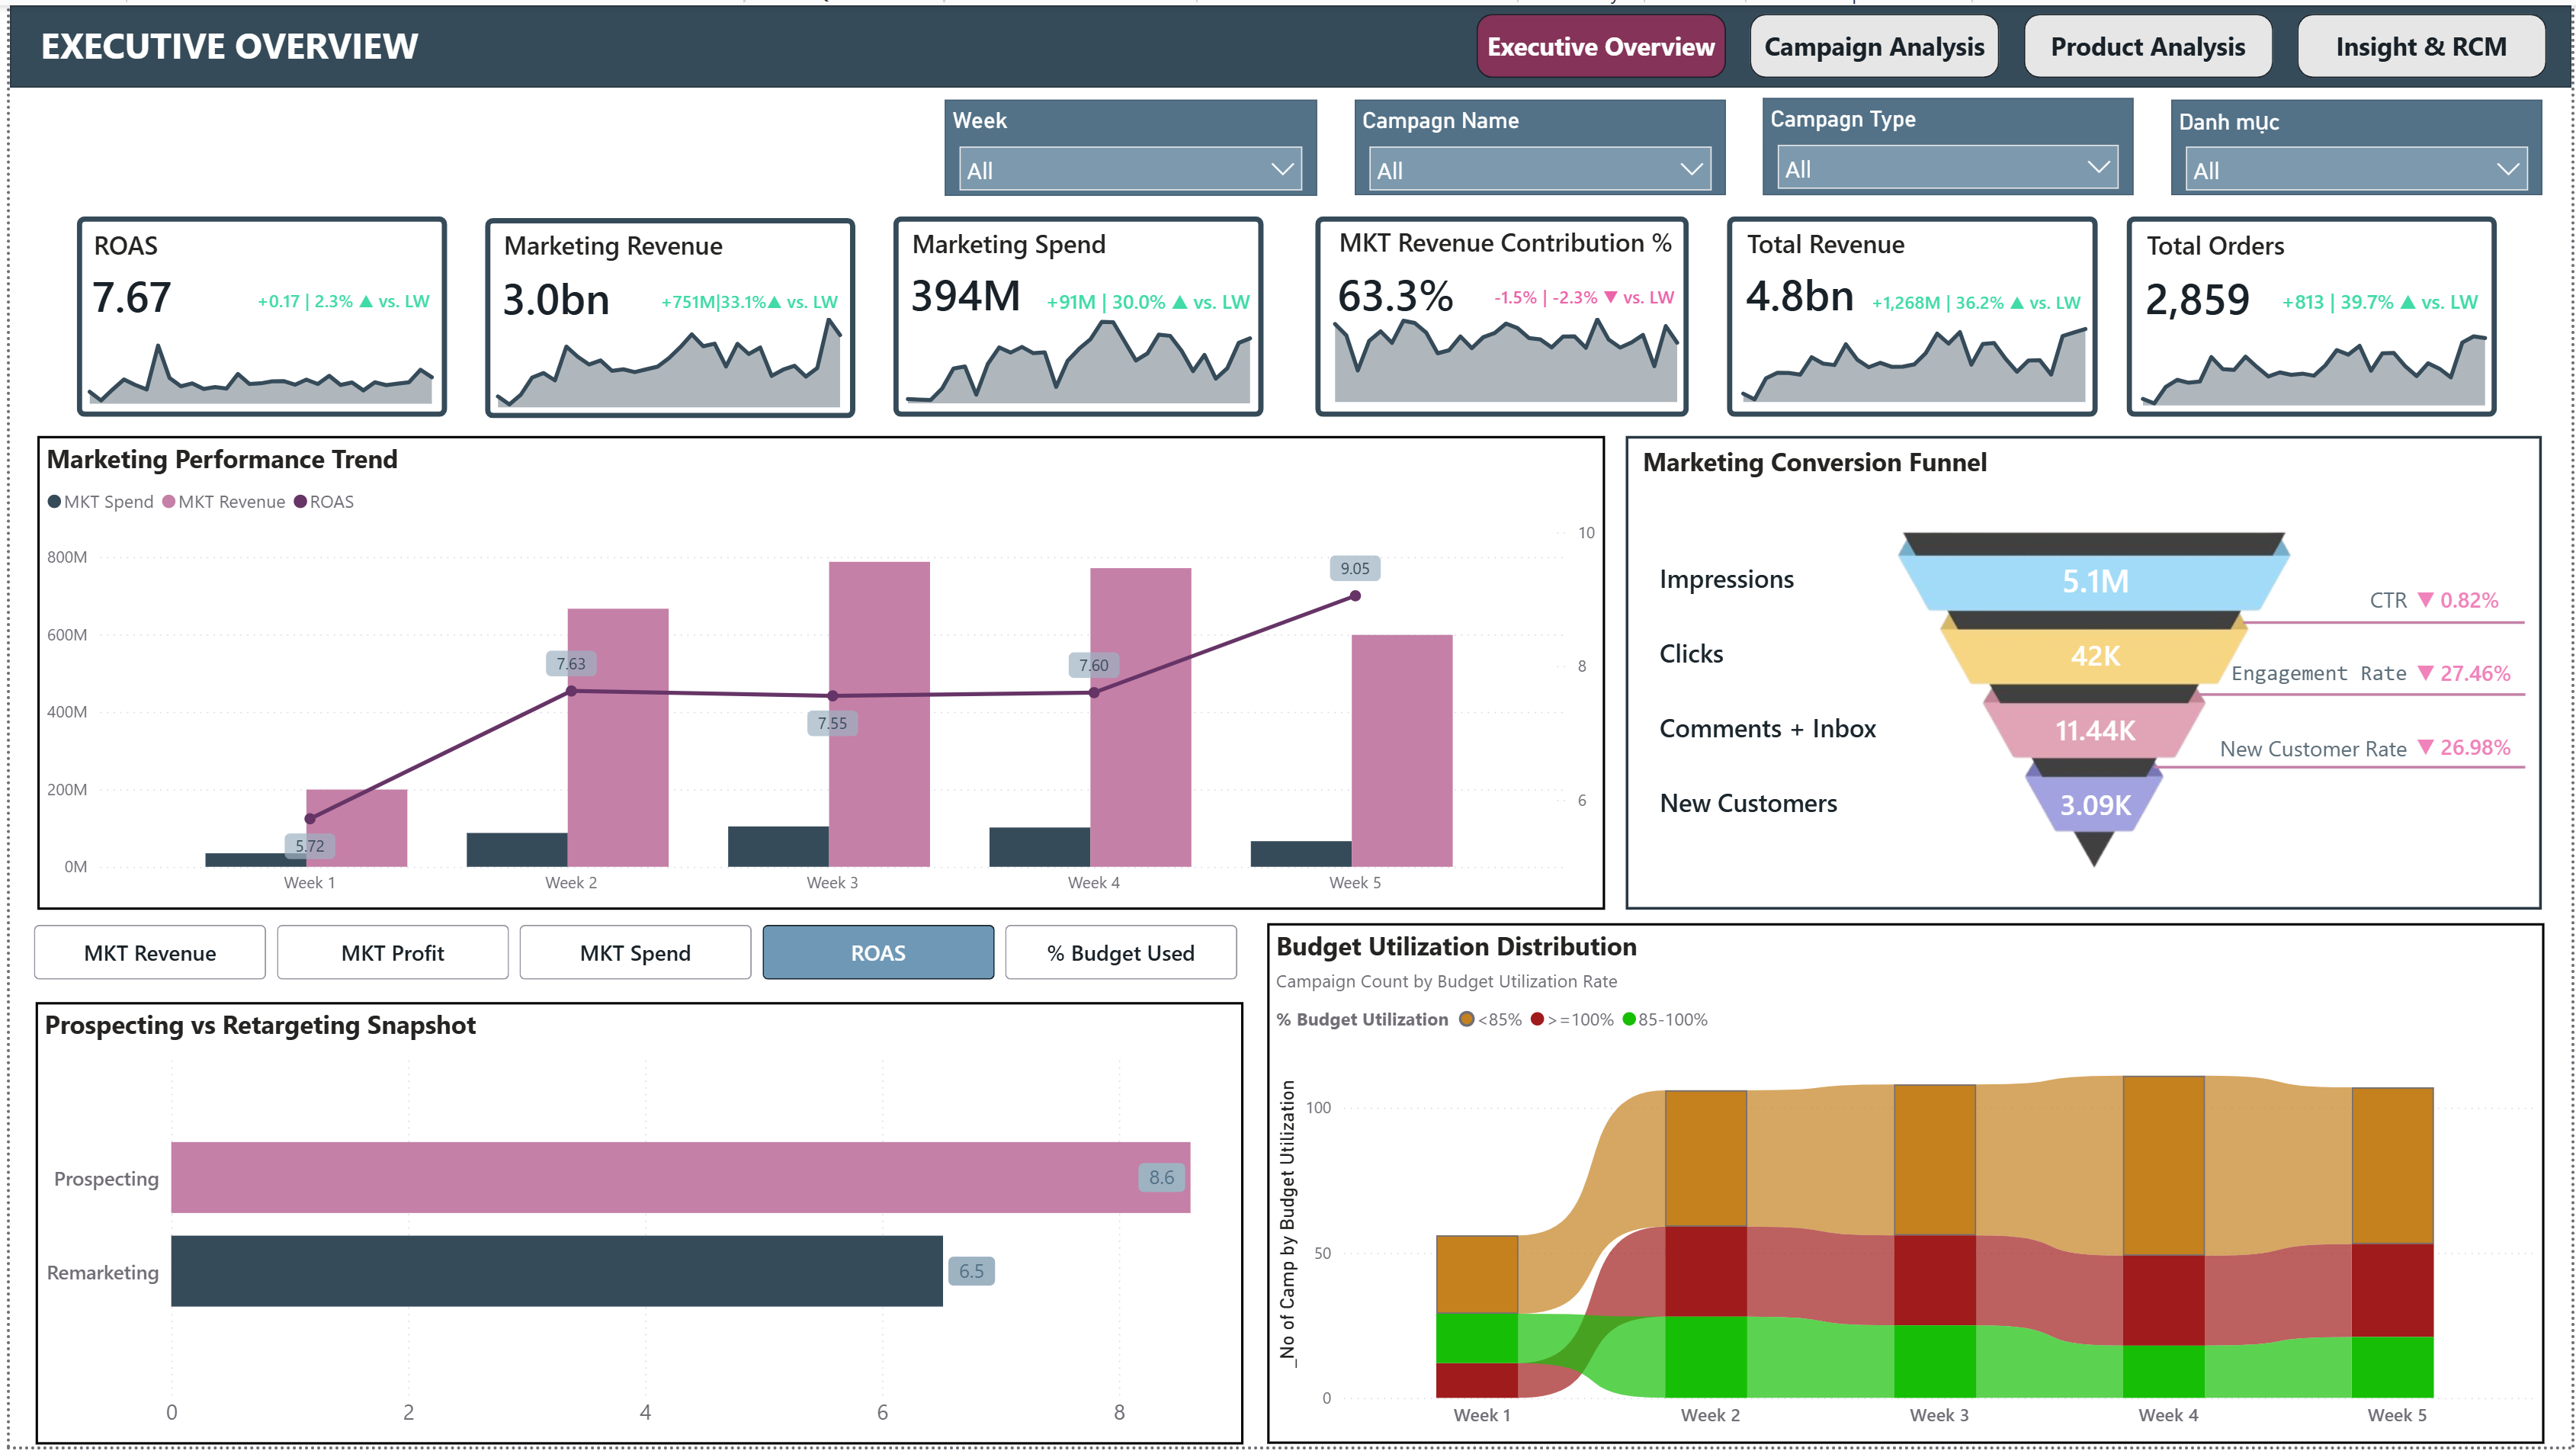

What the dashboard file says about the page in this screenshot:
{"tool":"powerbi","page":{"name":"Executive Overview","canvas":[1920,1080],"ordinal":0},"visuals":[{"type":"shape","box":[0,0,1920.3,61.6],"z":0},{"type":"cardVisual","fields":{"Data":["_Measure.MKT Revenue Contribution %"]},"box":[981.3,186.5,280.5,59.8],"z":0,"group":"g3"},{"type":"cardVisual","fields":{"Data":["_Measure.Total Revenue"]},"box":[1287.8,187.4,280.5,59.8],"z":0,"group":"g1"},{"type":"cardVisual","fields":{"Data":["_Measure.Marketing Spend"]},"box":[661,187.6,280.5,59.8],"z":0,"group":"g6"},{"type":"cardVisual","fields":{"Data":["_Measure.ROAS"]},"box":[47.1,188.1,280.5,59.8],"z":0,"group":"g2"},{"type":"cardVisual","fields":{"Data":["_Measure.MKT Revenue by Orders"]},"box":[354.9,188.3,280.5,59.8],"z":0,"group":"g5"},{"type":"cardVisual","fields":{"Data":["_Measure.Total Orders"]},"box":[1587.2,189.1,280.5,59.8],"z":0,"group":"g4"},{"type":"textbox","box":[17.4,7,622.7,62.8],"z":1000},{"type":"lineChart","fields":{"Y":["_Measure.MKT Revenue by Orders"],"Category":["Dim_Date.Date"]},"box":[353.9,225.8,280.5,76],"z":1000,"group":"g5"},{"type":"lineChart","fields":{"Y":["_Measure.MKT Revenue Contribution %"],"Category":["Dim_Date.Date"]},"box":[981.3,226.4,280.5,76],"z":1000,"group":"g3"},{"type":"lineChart","fields":{"Y":["_Measure.Total Revenue"],"Category":["Dim_Date.Date"]},"box":[1287.8,227.3,280.5,76],"z":1000,"group":"g1"},{"type":"lineChart","fields":{"Y":["_Measure.Marketing Spend"],"Category":["Dim_Date.Date"]},"box":[661,227.5,280.5,76],"z":1000,"group":"g6"},{"type":"lineChart","fields":{"Y":["_Measure.ROAS"],"Category":["Dim_Date.Date"]},"box":[47.1,228.2,280.5,76],"z":1000,"group":"g2"},{"type":"lineChart","fields":{"Y":["_Measure.Total Orders"],"Category":["Dim_Date.Date"]},"box":[1587.2,228.9,280.5,76],"z":1000,"group":"g4"},{"type":"textbox","box":[981.3,160.4,280.5,52.4],"z":2000,"group":"g3"},{"type":"textbox","box":[1287.8,161.2,280.5,52.4],"z":2000,"group":"g1"},{"type":"textbox","box":[661,161.4,280.5,52.4],"z":2000,"group":"g6"},{"type":"textbox","box":[47.1,161.9,280.5,52.4],"z":2000,"group":"g2"},{"type":"textbox","box":[354.9,162.1,280.5,52.4],"z":2000,"group":"g5"},{"type":"textbox","box":[1587.2,162.9,280.5,52.4],"z":2000,"group":"g4"},{"type":"lineClusteredColumnComboChart","title":"Marketing Performance Trend","fields":{"Y":["_Measure.Marketing Spend","_Measure.MKT Revenue by Orders"],"Y2":["_Measure.ROAS"],"Category":["Dim_Date.Date","Dim_Date.WeekOfMonth"]},"box":[20,322.5,1175,355],"z":2000},{"type":"shape","box":[49.2,158.7,277.6,150.3],"z":2500,"group":"g2"},{"type":"shape","box":[662.2,158.7,277.6,150.3],"z":2500,"group":"g6"},{"type":"shape","box":[978.5,158.7,280,150.3],"z":2500,"group":"g3"},{"type":"shape","box":[1587.2,158.7,277.6,150.3],"z":2500,"group":"g4"},{"type":"shape","box":[356,159.2,277.6,150],"z":2500,"group":"g5"},{"type":"group","id":"g1","title":"Group 1","box":[1287.2,158.7,280.8,150],"z":3000},{"type":"cardVisual","fields":{"Data":["_Measure.MKT Revenue Contribution % Label WoW"]},"box":[1038.9,196,216.1,43.2],"z":3000,"group":"g3"},{"type":"cardVisual","fields":{"Data":["_Measure.MTK Revenue Label WoW"]},"box":[417.9,198.1,215.8,45],"z":3000,"group":"g5"},{"type":"cardVisual","fields":{"Data":["_Measure.Orders Label WoW"]},"box":[1647.8,198.3,215.6,44.4],"z":3000,"group":"g4"},{"type":"cardVisual","fields":{"Data":["_Measure.MTK ROAS Label WoW"]},"box":[110.9,198.7,215.8,44.2],"z":3000,"group":"g2"},{"type":"cardVisual","fields":{"Data":["_Measure.MTK Spend Label WoW"]},"box":[726.3,198.9,215.4,44.6],"z":3000,"group":"g6"},{"type":"group","id":"g2","title":"Group 1","box":[47.1,158.7,280.8,150],"z":4000},{"type":"group","id":"g3","title":"Group 1","box":[978.5,158.7,282.6,150],"z":5000},{"type":"group","id":"g4","title":"Group 1","box":[1587.2,158.7,280.8,150],"z":6000},{"type":"group","id":"g5","title":"Group 1","box":[353.9,159.2,282,148.9],"z":7000},{"type":"shape","box":[1287.2,158.7,278,150.3],"z":7001,"group":"g1"},{"type":"cardVisual","fields":{"Data":["_Measure.Total Revenue Label WoW"]},"box":[1320.5,199.5,244.6,43.8],"z":7501,"group":"g1"},{"type":"group","id":"g6","title":"Group 1","box":[661,158.7,280.8,150],"z":8000},{"type":"advancedSlicerVisual","fields":{"Values":["Parameter 2.Parameter"]},"box":[17.4,689,907,41.9],"z":9000},{"type":"clusteredBarChart","title":"Prospecting vs Retargeting Snapshot","fields":{"Y":["_Measure.ROAS"],"Category":["dim_mkt_camp_cost._Campaign Type"]},"box":[19.2,746.5,905.2,331.4],"z":10000},{"type":"group","id":"g7","title":"Group 2","box":[1211.7,323.3,686.7,356.7],"z":11000},{"type":"ribbonChart","title":"Budget Utilization Distribution","fields":{"Series":["dim_mkt_camp_cost.% Budget Utilization"],"Y":["_Measure._No of Camp by Budget Utilization"],"Category":["Dim_Date.WeekOfMonth","Dim_Date.Day"]},"box":[942.5,687.5,957.5,390],"z":12000},{"type":"slicer","title":"Campagn Name","fields":{"Values":["dim_mkt_camp_cost.Tên chiến dịch"]},"box":[1007.7,70.3,278.3,71.7],"z":13000},{"type":"slicer","title":"Danh mục","fields":{"Values":["dim_danh sach san pham.Danh mục"]},"box":[1620.6,70.3,278.3,71.7],"z":14000},{"type":"slicer","title":"Week","fields":{"Values":["Dim_Date.WeekOfMonth"]},"box":[700.2,70.1,278.9,72.1],"z":15000},{"type":"slicer","title":"Campagn Type","fields":{"Values":["dim_mkt_camp_cost._Campaign Type"]},"box":[1314.5,69.8,277.6,72.8],"z":16000},{"type":"shape","box":[1211.7,323.3,686.7,355],"z":16000,"group":"g7"},{"type":"pageNavigator","box":[1098.8,7,802.3,48.8],"z":17000},{"type":"image","box":[1226.7,323.3,671.7,356.7],"z":17000,"group":"g7"},{"type":"cardVisual","fields":{"Data":["_Measure.Total Impressions","_Measure.Total Clicks","_Measure.Total Cmt+ib","_Measure.Total New Customers"]},"box":[1425,400,278.3,226.7],"z":18000,"group":"g7"},{"type":"cardVisual","fields":{"Data":["_Measure.Total Impressions","_Measure.Total Clicks","_Measure.Total Cmt+ib","_Measure.Total New Customers"]},"box":[1226.9,399.2,242.1,227.7],"z":19000,"group":"g7"},{"type":"cardVisual","fields":{"Data":["_Measure._CTR","_Measure._Click_to_Cmt","_Measure._Cmt_to_NewCustomers"]},"box":[1795,412,103,175],"z":20000,"group":"g7"},{"type":"shape","box":[1607.3,559.4,278.3,23.3],"z":21000,"group":"g7"},{"type":"shape","box":[1640.6,504.4,245,25],"z":21500,"group":"g7"},{"type":"shape","box":[1675,444,211,38],"z":22000,"group":"g7"},{"type":"textbox","box":[1603,430,200,152],"z":25000,"group":"g7"},{"type":"textbox","title":"Title","box":[1220,324,673.3,51.1],"z":25500,"group":"g7"}]}

Visuals, with their boxes in screenshot pixels (x1, y1, x2, y2), scaled from the page's 1920x1080 canvas onto the 2576x1451 screenshot:
shape: locate(0, 0, 2575, 83)
cardVisual - _Measure.MKT Revenue Contribution %: locate(1317, 251, 1693, 331)
cardVisual - _Measure.Total Revenue: locate(1727, 252, 2104, 332)
cardVisual - _Measure.Marketing Spend: locate(887, 252, 1263, 332)
cardVisual - _Measure.ROAS: locate(63, 252, 440, 333)
cardVisual - _Measure.MKT Revenue by Orders: locate(476, 253, 852, 333)
cardVisual - _Measure.Total Orders: locate(2129, 254, 2506, 335)
textbox: locate(24, 9, 859, 94)
lineChart - _Measure.MKT Revenue by Orders x Dim_Date.Date: locate(475, 303, 851, 406)
lineChart - _Measure.MKT Revenue Contribution % x Dim_Date.Date: locate(1317, 304, 1693, 406)
lineChart - _Measure.Total Revenue x Dim_Date.Date: locate(1727, 306, 2104, 407)
lineChart - _Measure.Marketing Spend x Dim_Date.Date: locate(887, 306, 1263, 408)
lineChart - _Measure.ROAS x Dim_Date.Date: locate(63, 307, 440, 409)
lineChart - _Measure.Total Orders x Dim_Date.Date: locate(2129, 307, 2506, 409)
textbox: locate(1317, 216, 1693, 286)
textbox: locate(1727, 217, 2104, 287)
textbox: locate(887, 217, 1263, 287)
textbox: locate(63, 217, 440, 288)
textbox: locate(476, 218, 852, 288)
textbox: locate(2129, 219, 2506, 289)
"Marketing Performance Trend" lineClusteredColumnComboChart: locate(27, 433, 1603, 910)
shape: locate(66, 213, 438, 415)
shape: locate(888, 213, 1261, 415)
shape: locate(1313, 213, 1689, 415)
shape: locate(2129, 213, 2502, 415)
shape: locate(478, 214, 850, 416)
"Group 1" group: locate(1727, 213, 2104, 415)
cardVisual - _Measure.MKT Revenue Contribution % Label WoW: locate(1394, 263, 1684, 321)
cardVisual - _Measure.MTK Revenue Label WoW: locate(560, 266, 850, 326)
cardVisual - _Measure.Orders Label WoW: locate(2211, 266, 2500, 326)
cardVisual - _Measure.MTK ROAS Label WoW: locate(149, 267, 438, 326)
cardVisual - _Measure.MTK Spend Label WoW: locate(974, 267, 1263, 327)
"Group 1" group: locate(63, 213, 440, 415)
"Group 1" group: locate(1313, 213, 1692, 415)
"Group 1" group: locate(2129, 213, 2506, 415)
"Group 1" group: locate(475, 214, 853, 414)
shape: locate(1727, 213, 2100, 415)
cardVisual - _Measure.Total Revenue Label WoW: locate(1772, 268, 2100, 327)
"Group 1" group: locate(887, 213, 1263, 415)
advancedSlicerVisual - Parameter 2.Parameter: locate(24, 926, 1240, 982)
"Prospecting vs Retargeting Snapshot" clusteredBarChart: locate(26, 1003, 1240, 1448)
"Group 2" group: locate(1625, 435, 2547, 913)
"Budget Utilization Distribution" ribbonChart: locate(1265, 923, 2549, 1448)
"Campagn Name" slicer: locate(1352, 95, 1725, 191)
"Danh mục" slicer: locate(2174, 95, 2548, 191)
"Week" slicer: locate(939, 95, 1314, 191)
"Campagn Type" slicer: locate(1763, 94, 2136, 191)
shape: locate(1625, 435, 2547, 911)
pageNavigator: locate(1474, 9, 2551, 75)
image: locate(1646, 435, 2547, 913)
cardVisual - _Measure.Total Impressions x _Measure.Total Clicks: locate(1912, 538, 2286, 842)
cardVisual - _Measure.Total Impressions x _Measure.Total Clicks: locate(1646, 536, 1971, 843)
cardVisual - _Measure._CTR x _Measure._Click_to_Cmt: locate(2408, 554, 2546, 788)
shape: locate(2157, 752, 2529, 783)
shape: locate(2201, 678, 2529, 711)
shape: locate(2247, 596, 2530, 647)
textbox: locate(2151, 578, 2419, 782)
"Title" textbox: locate(1637, 435, 2540, 504)
